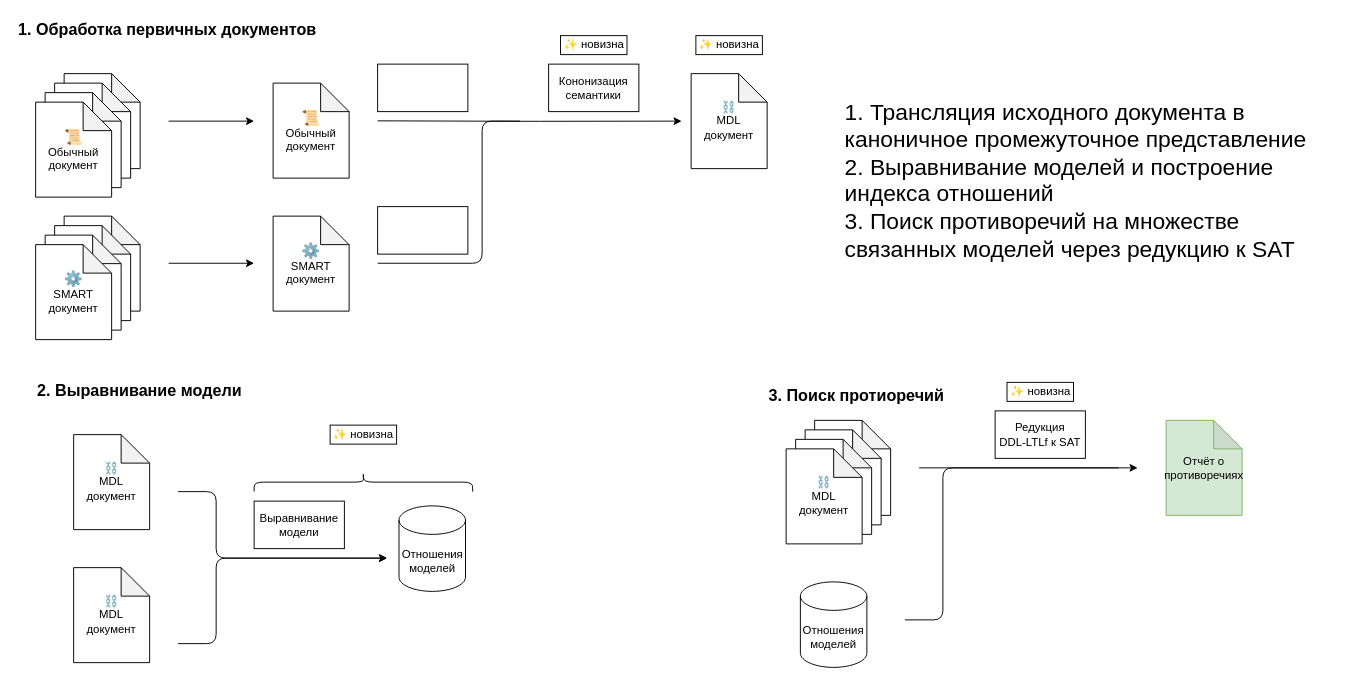
The diagram is 1353 pixels wide and 684 high, and some of its shapes have lost their labels. The shapes that lost their labels are listed below. From the top down, each one's box as (x1, y1, x2, y2) in pixels, then its label:
(377, 63, 468, 112): Автоматическая трансляция с супервизией
(377, 206, 468, 254): Процедурная трасляция
